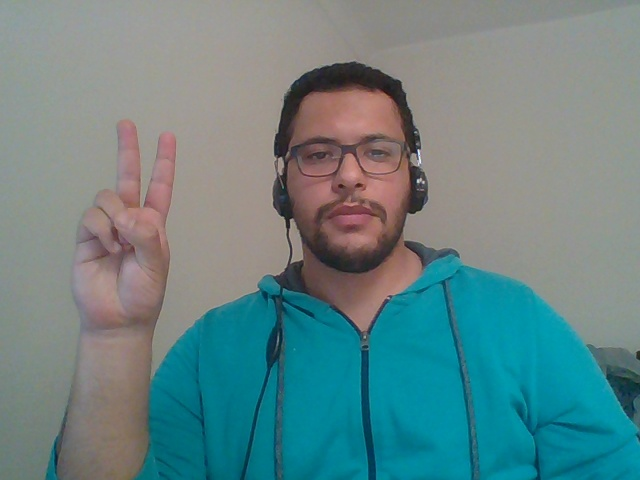vectory: (40, 109, 196, 346)
